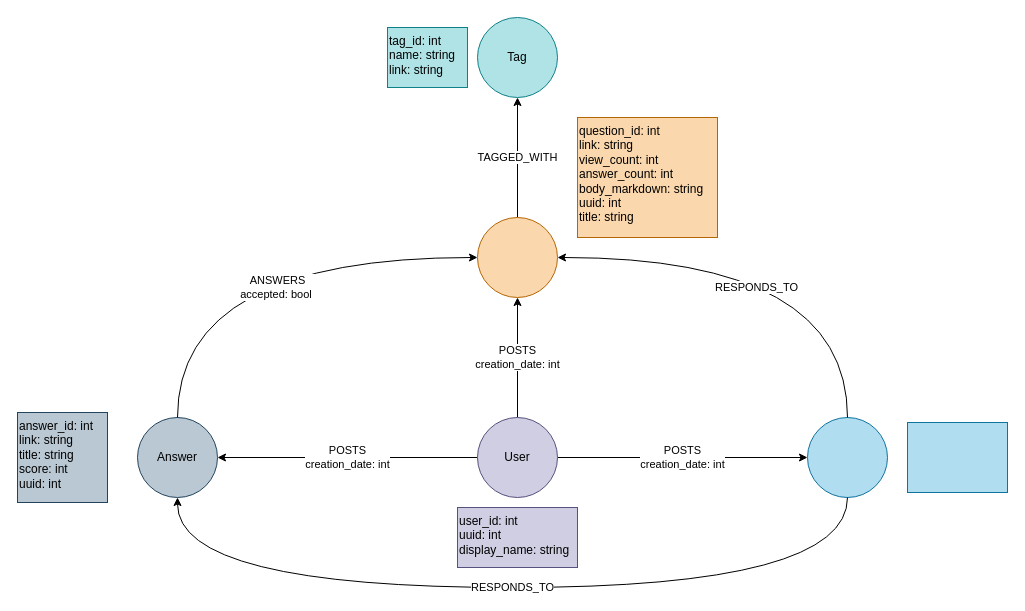
The diagram is 1025 pixels wide and 611 high, and some of its shapes have lost their labels. Each missing label, with the centre of its shape:
Comment: point (847, 457)
comment_id: int score: int uuid: int link: string: point (957, 457)
Question: point (517, 257)
